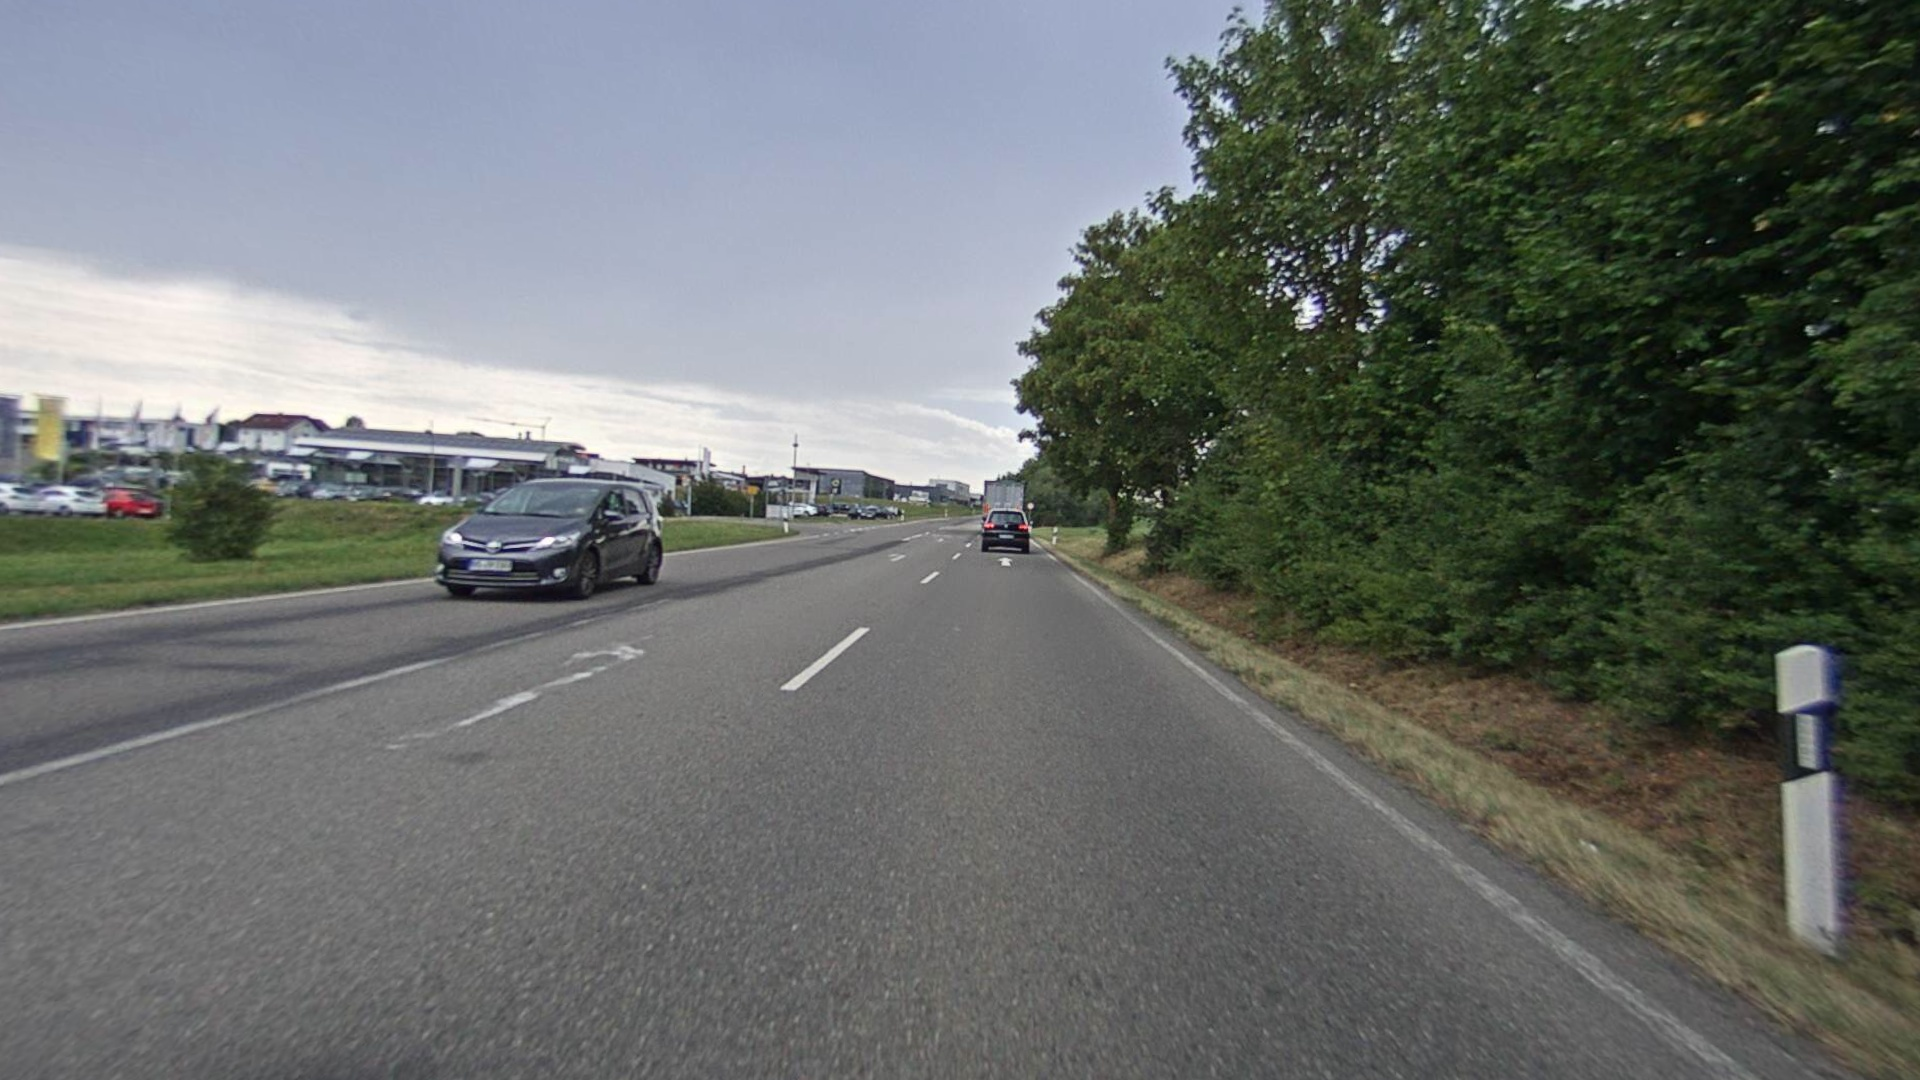car: (430, 476, 669, 603)
